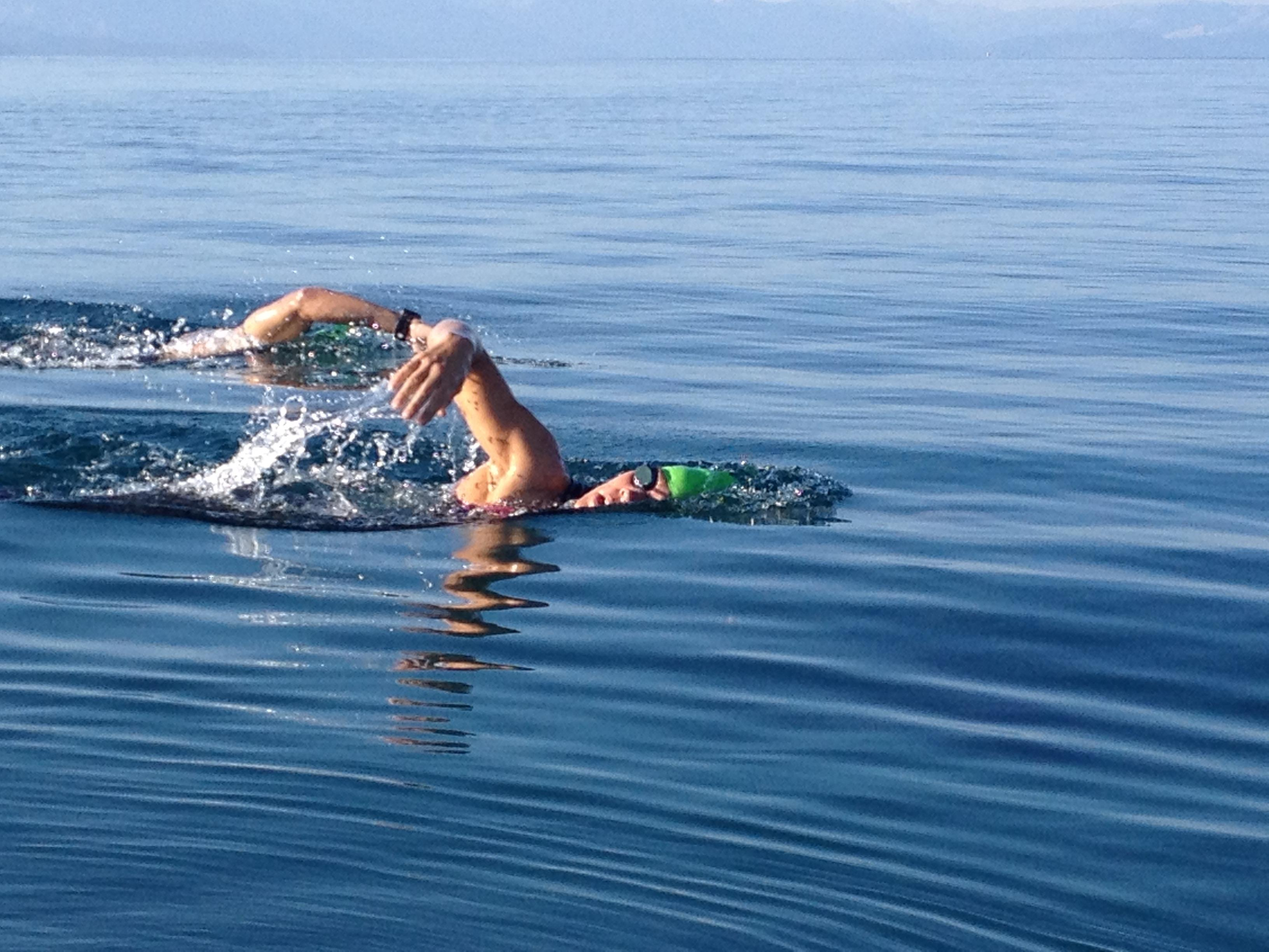human: (387, 308, 758, 529), (126, 264, 446, 370)
